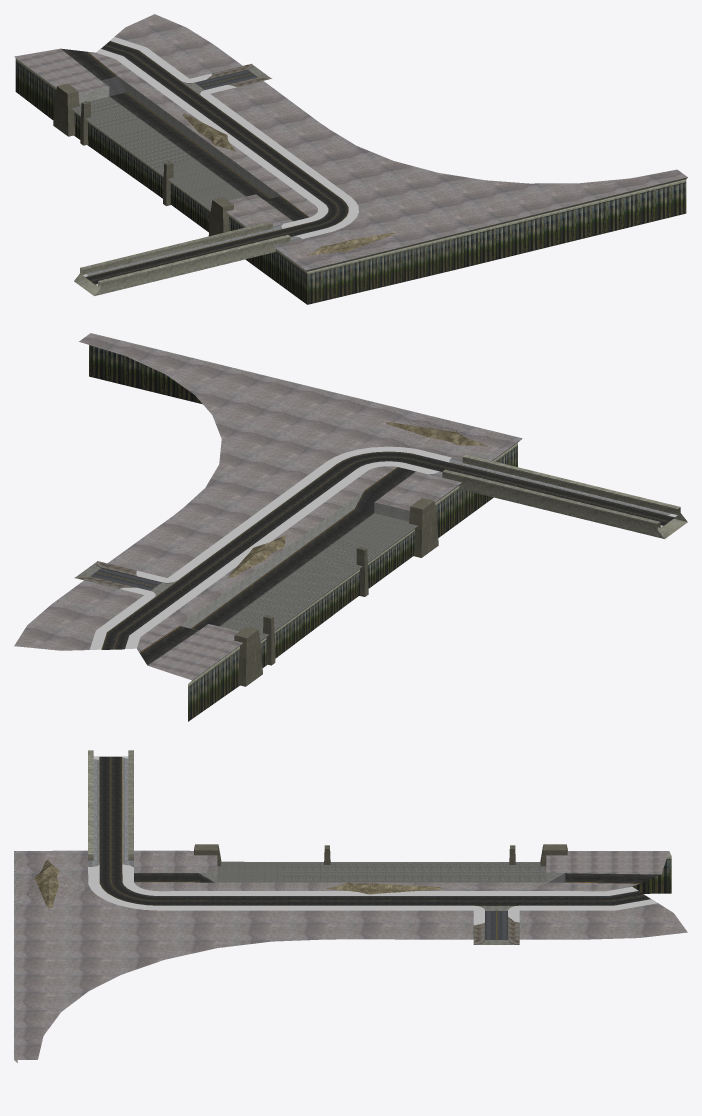
Rendered from sanpdmdock3_las2.obj.
The picture shows the model from 3 angles, top to bottom: view 1: azimuth 30°, elevation 25°; view 2: azimuth 150°, elevation 25°; view 3: azimuth 270°, elevation 25°; orthographic projection. The views are drawn at different scales.
Visible parts, largest first — view 1: sanpdmdock3_las2; view 2: sanpdmdock3_las2; view 3: sanpdmdock3_las2.
Part boxes in pixels (x1,y1,x2,y2): sanpdmdock3_las2: (14, 14, 687, 304); sanpdmdock3_las2: (14, 333, 687, 721); sanpdmdock3_las2: (14, 750, 687, 1062).
Bounding box in the file's own units: 316 × 23.9 × 293.
